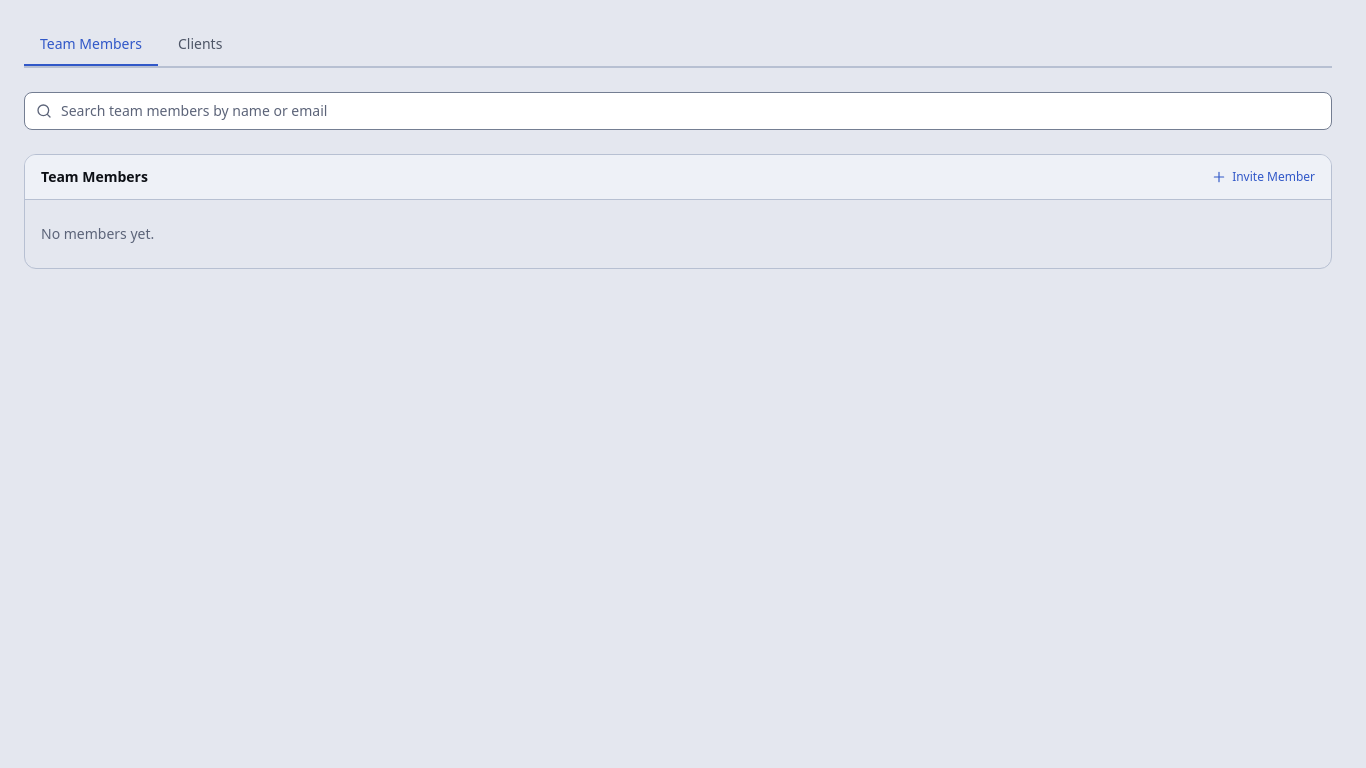
it: loaded content › autocompletes the organization in the Add Client modal
Expected: the text "No members yet." is shown, [41,224,154,243]
Click the button "Clients" at (200, 45), box [162,24,238,66]
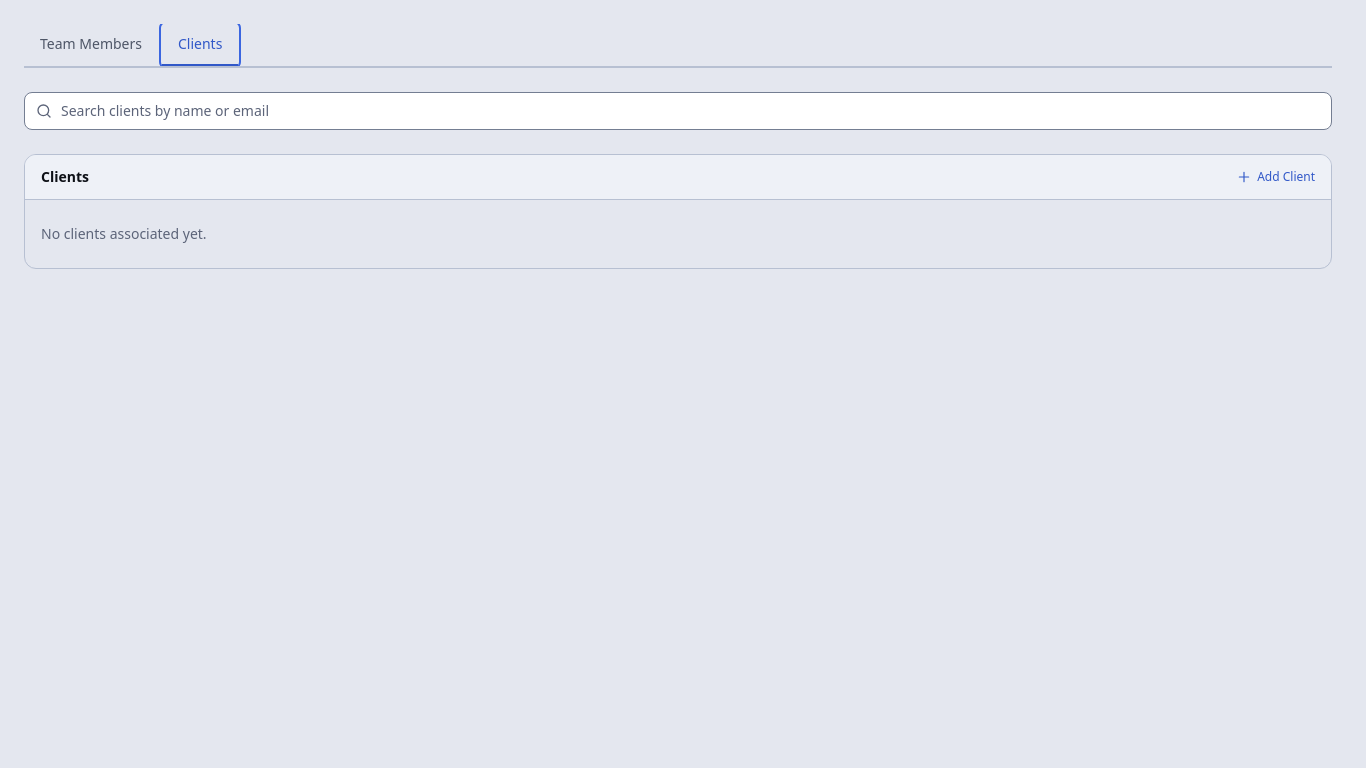
Click the button "Add Client" at (1276, 177), box [1237,169,1315,185]
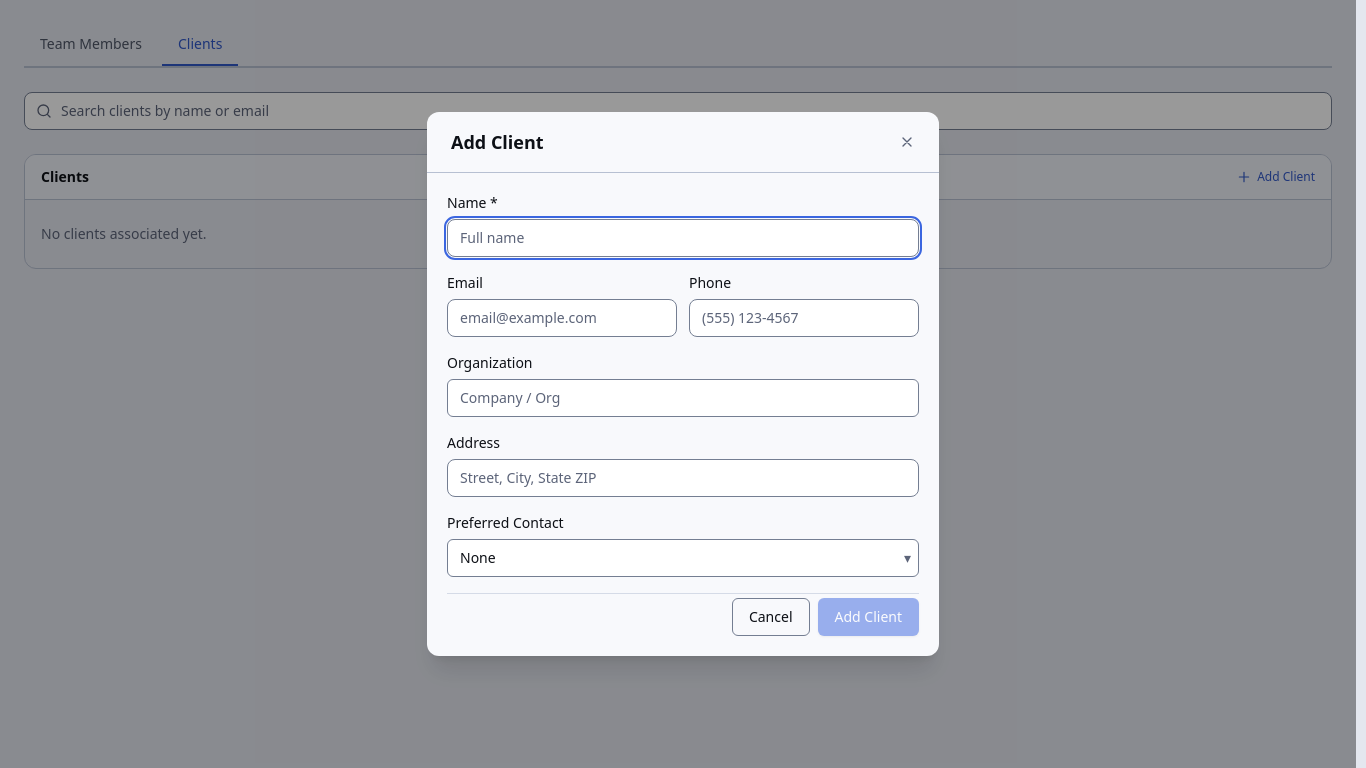
Type "delgado" into the dropdown named "Organization" at (683, 398), box [447,379,919,417]
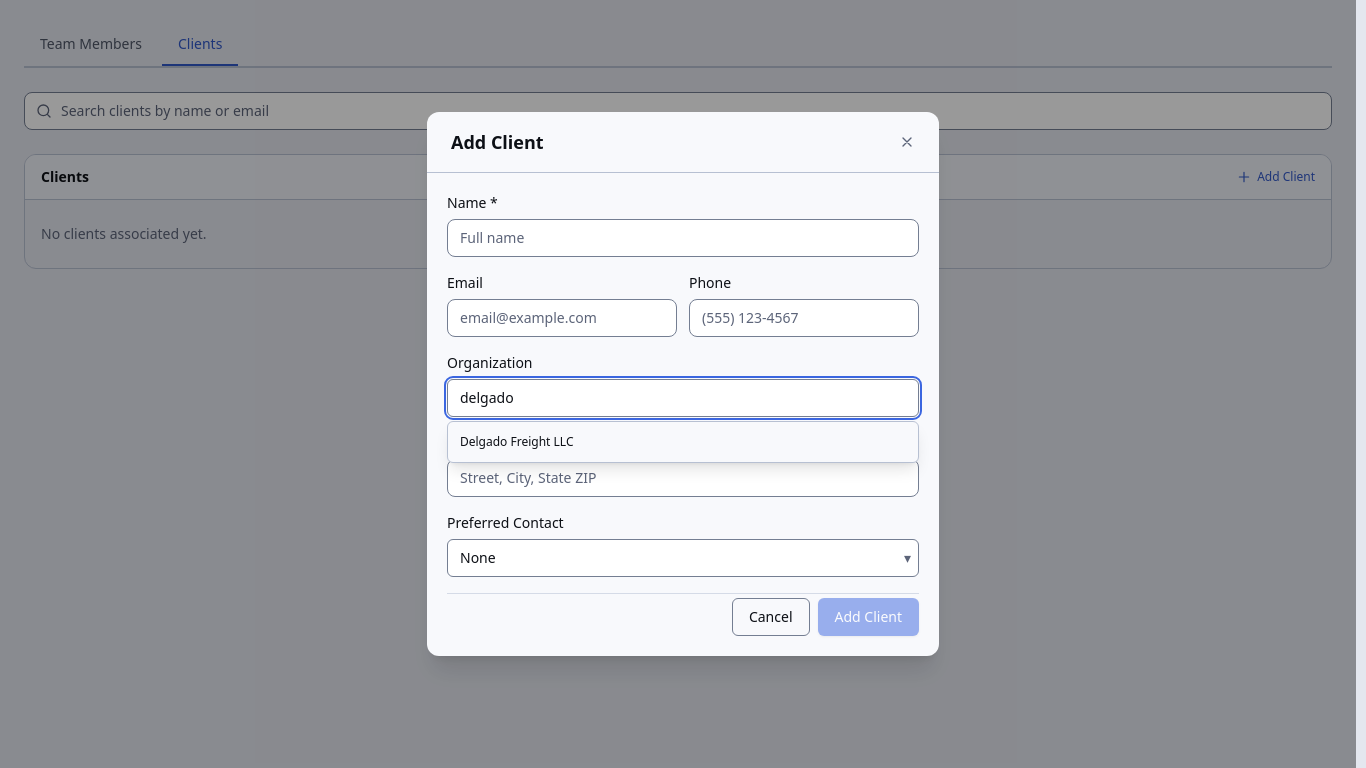
Click the option "Delgado Freight LLC" at (517, 442), box [460,433,574,450]
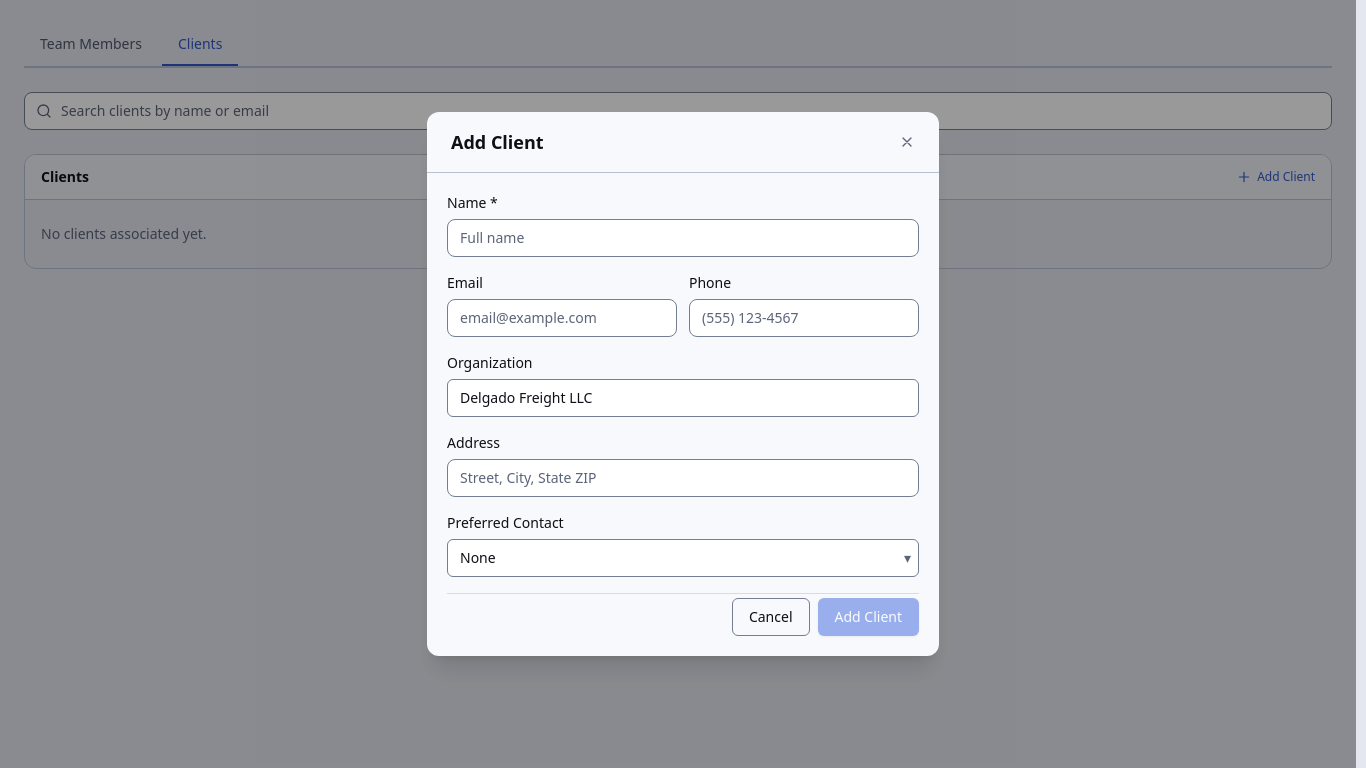
Result: the dropdown named "Organization" holds "Delgado Freight LLC" at [447,379,919,417]
